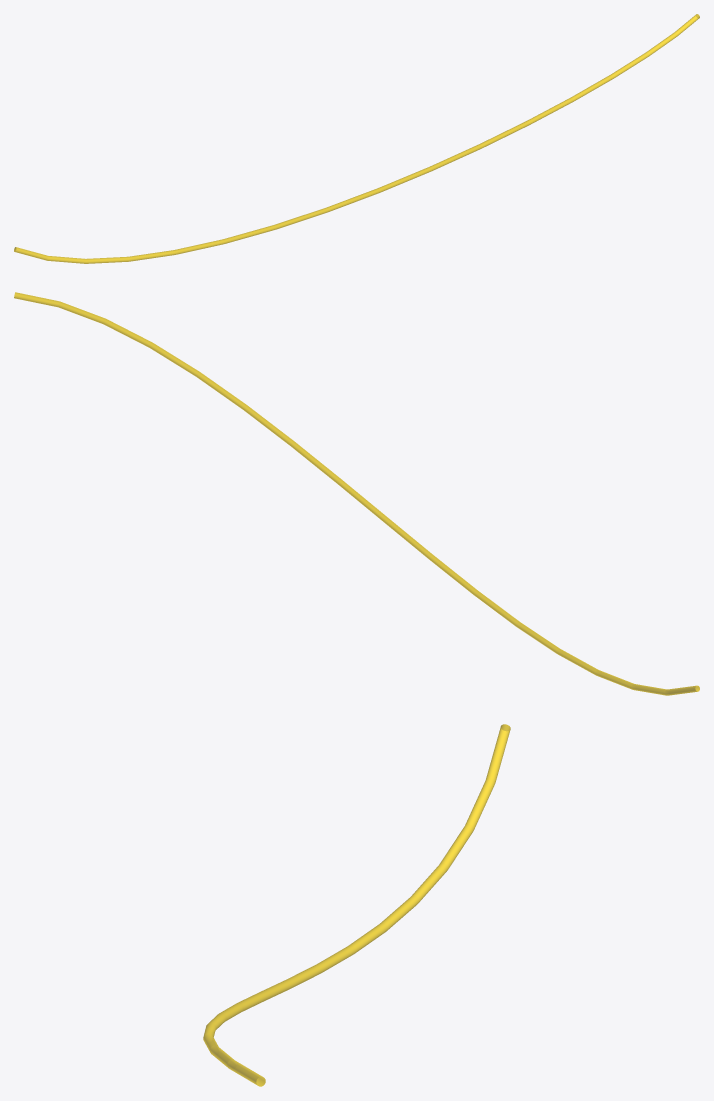
Rendered from Event_100608114_track_129.fbx.
3 views of the same model, one above another, from view 1: azimuth 30°, elevation 25°; view 2: azimuth 150°, elevation 25°; view 3: azimuth 270°, elevation 25° (orthographic). The views are drawn at different scales.
Visible parts, largest first — view 1: Model; view 2: Model; view 3: Model.
Boxes of the visible parts, bbox=[...] form: Model: bbox=[14, 14, 699, 263]; Model: bbox=[14, 292, 699, 695]; Model: bbox=[203, 724, 510, 1086].
Bounding box in the file's own units: 5.62 × 1.32 × 1.2.
